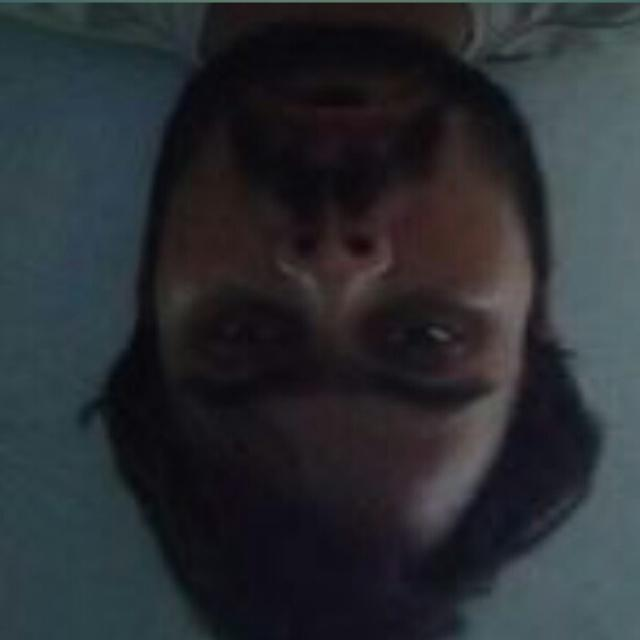Sad: (151, 29, 545, 567)
